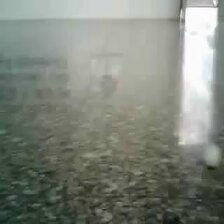w: (203, 142, 223, 168)
